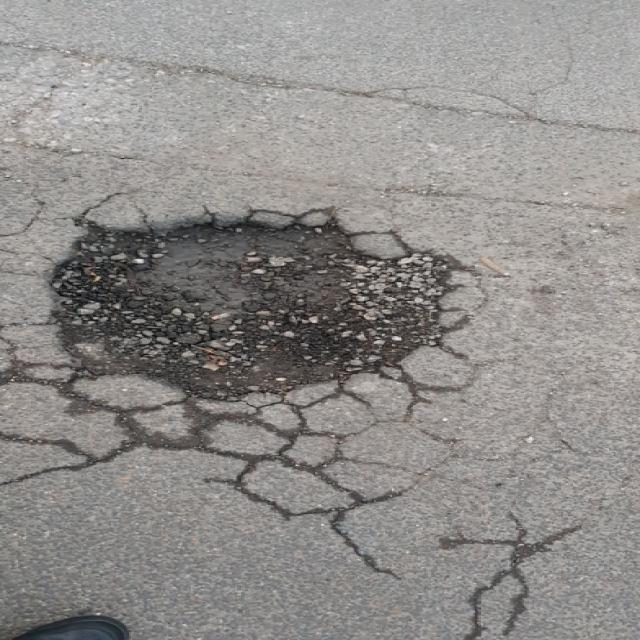Pothole: (34, 203, 477, 408)
